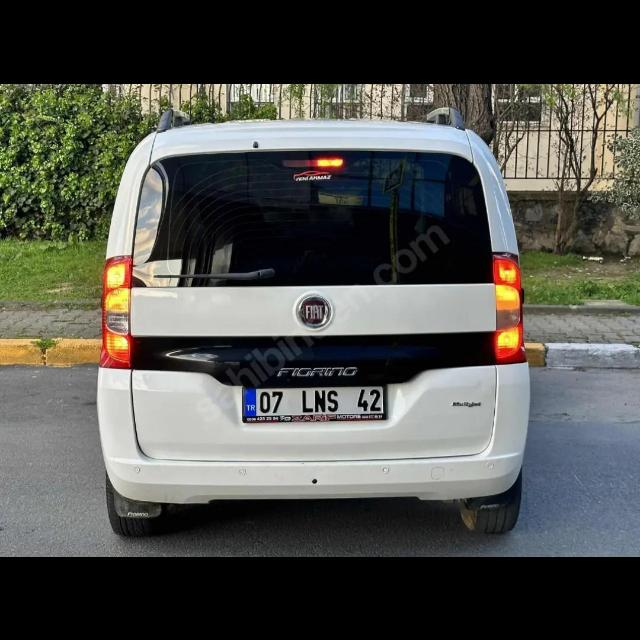Plaka: (246, 386, 388, 416)
